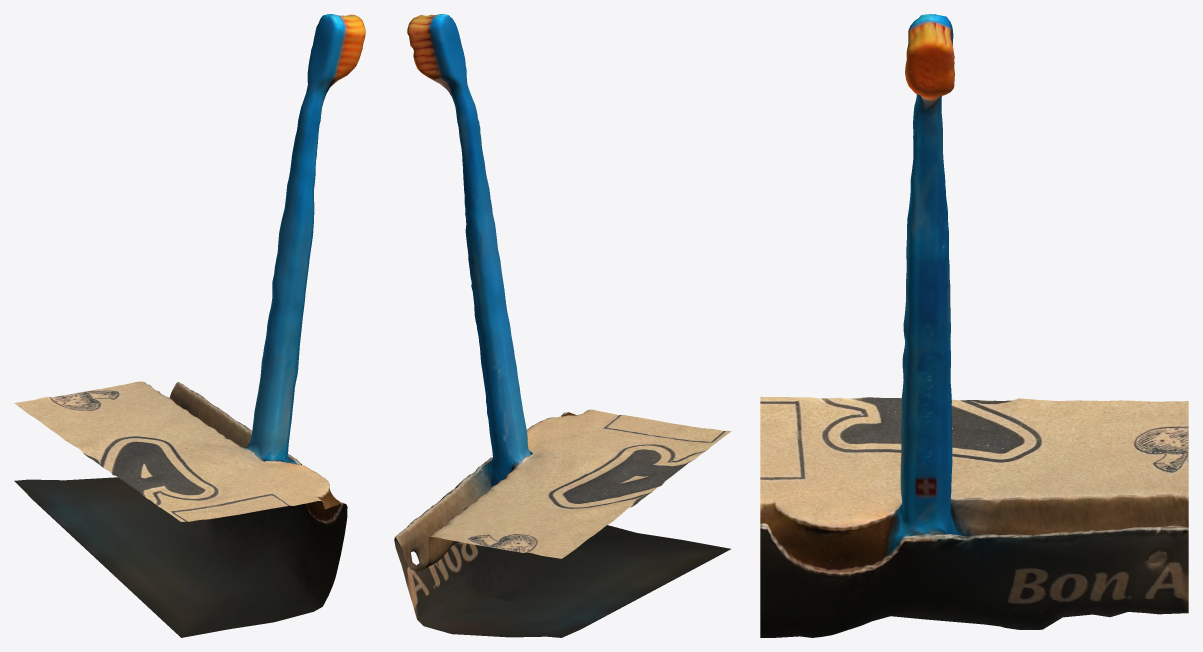
Rendered from 3DModel_LowPoly.obj.
3 views of the same model, side by side, from view 1: azimuth 30°, elevation 25°; view 2: azimuth 150°, elevation 25°; view 3: azimuth 270°, elevation 25° (orthographic). The views are drawn at different scales.
Parts seen in each view (by area): view 1: 3DModel_LowPoly; view 2: 3DModel_LowPoly; view 3: 3DModel_LowPoly.
Part boxes in pixels (left/top/right/bottom): 3DModel_LowPoly: left=14, top=14, right=365, bottom=637; 3DModel_LowPoly: left=394, top=14, right=731, bottom=637; 3DModel_LowPoly: left=760, top=14, right=1188, bottom=637.
Bounding box in the file's own units: 0.0954 × 0.1958 × 0.1125.
1 material, 1 textured.
